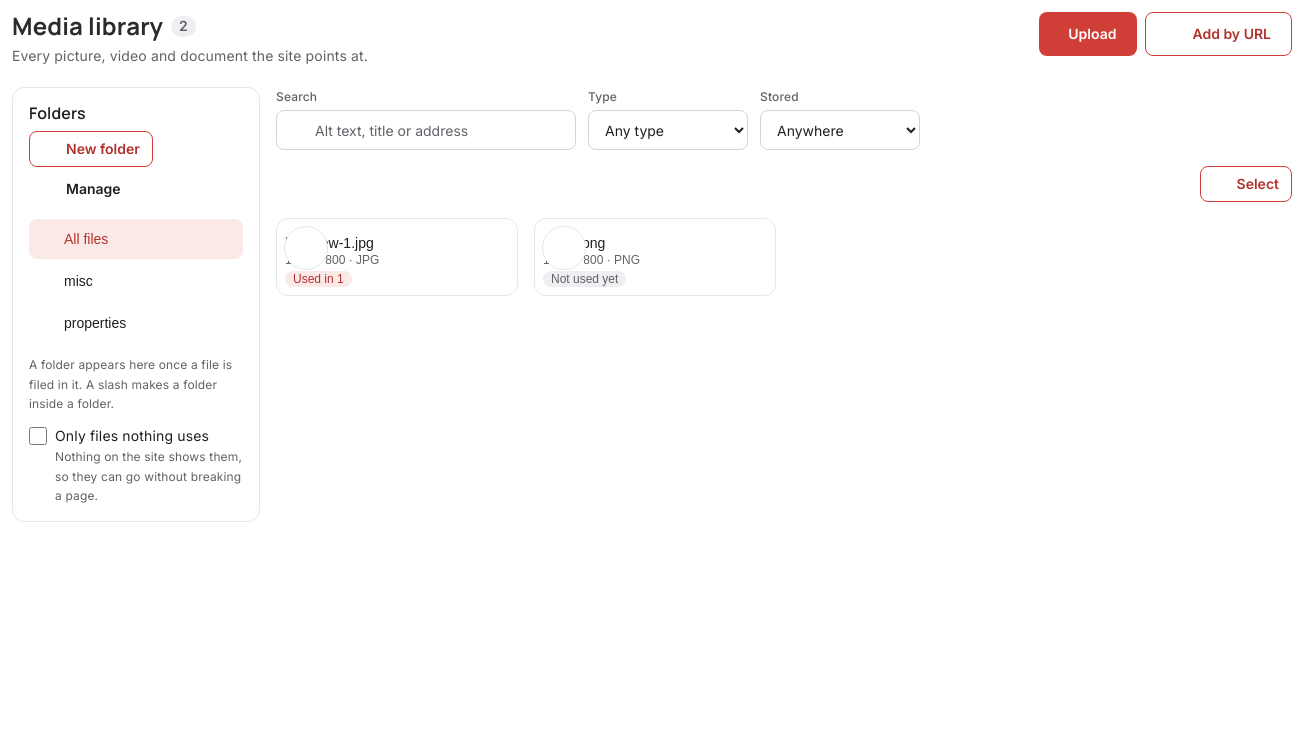
shows the upload zone once a cloud name and a preset exist
Expected: the text "lakeview-1.jpg" is shown, [285,235,379,251]
Click the button "Upload" at (1088, 34), box [1039,12,1137,56]
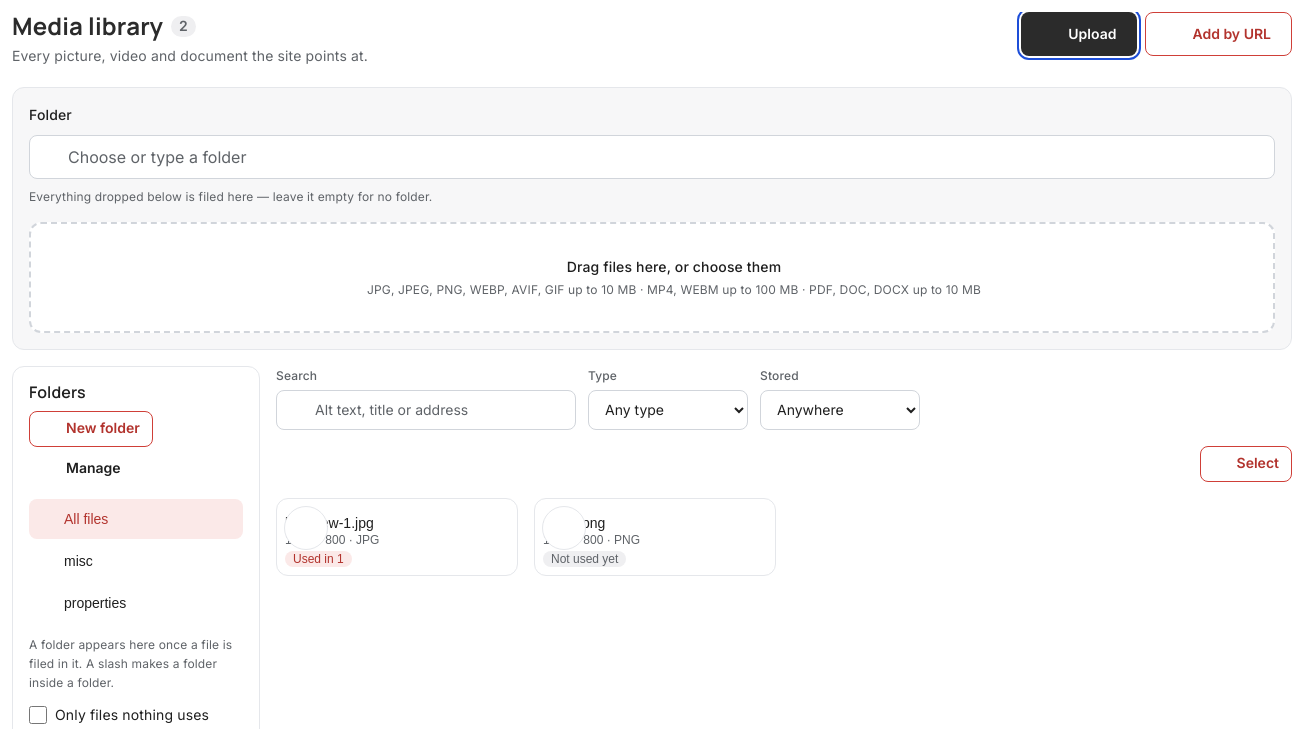
Expected: the element named "Choose files to upload" is shown, [29,222,1275,333]
